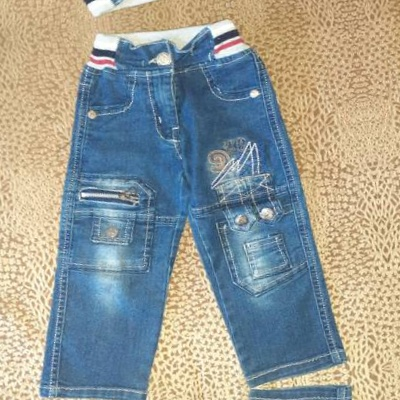Pants: (0, 3, 358, 400), (0, 0, 299, 35), (33, 380, 400, 400), (393, 0, 400, 351)
